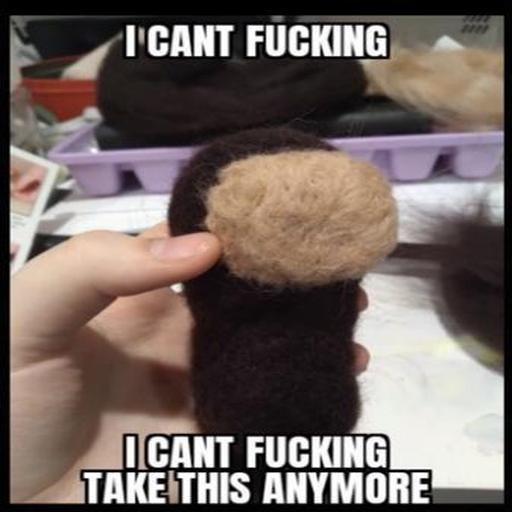Crewmate: (157, 114, 400, 436)
